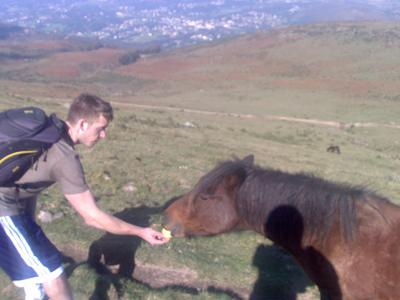person: (2, 94, 171, 300)
